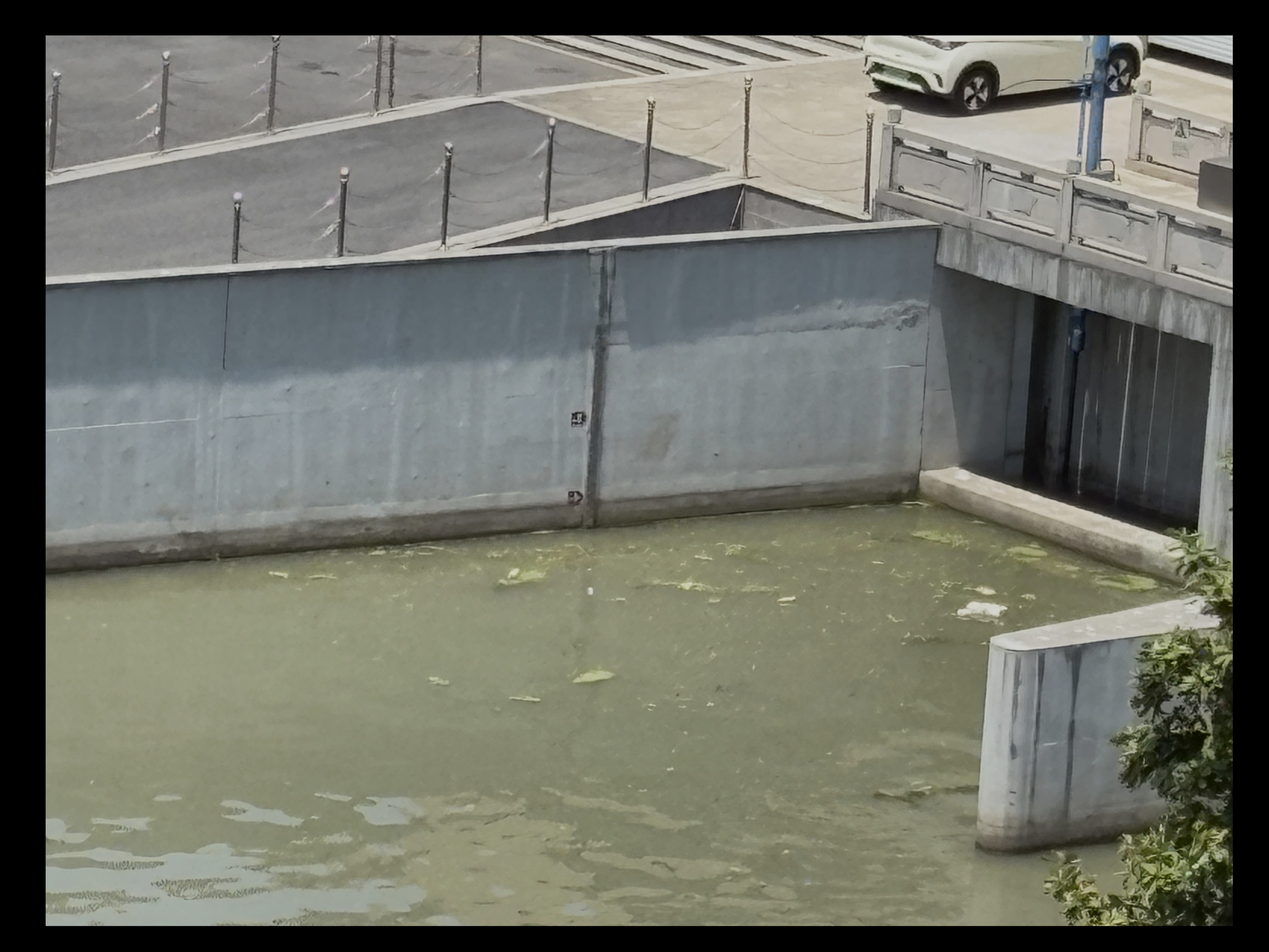Other: (495, 564, 549, 590), (632, 580, 727, 594), (1097, 576, 1156, 590), (912, 528, 960, 543), (572, 670, 616, 683), (1010, 547, 1045, 555), (510, 696, 541, 700)
Plastic wastes: (958, 603, 1007, 616), (777, 596, 795, 604)
